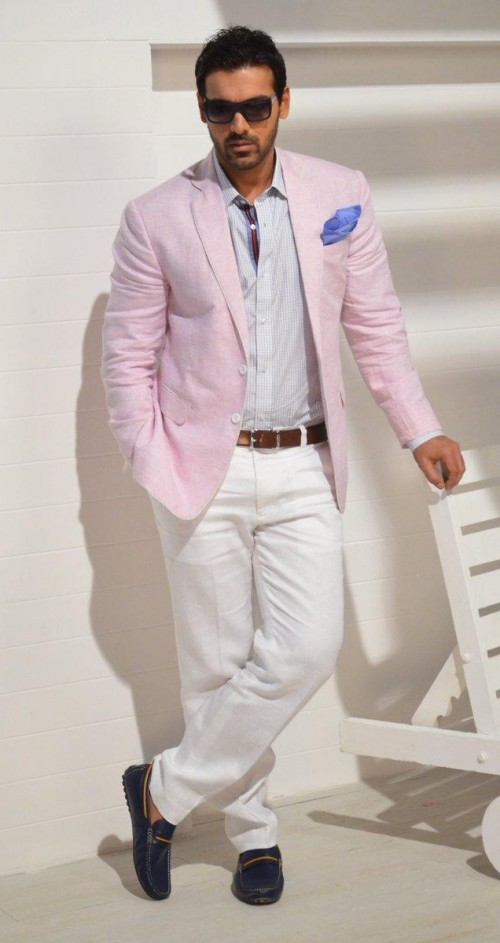F_M_suit jacket: (110, 122, 435, 505)
F_belt: (222, 406, 334, 455)
F_dress pants: (133, 438, 332, 848)
